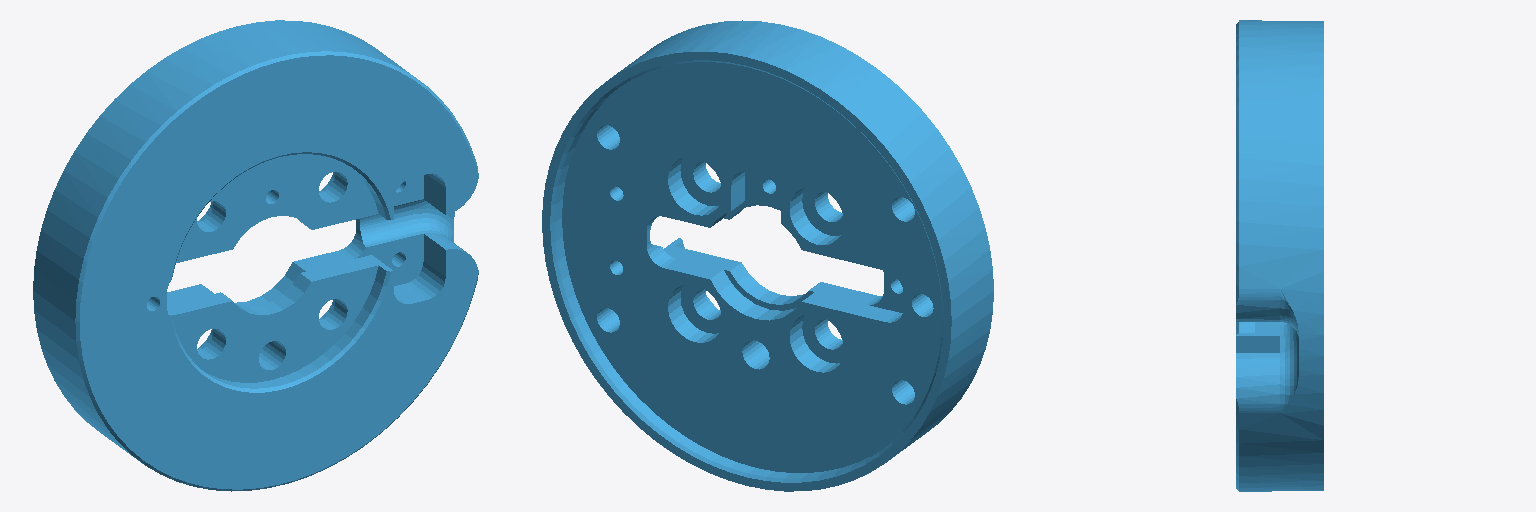
URDF robot description (ur5):
<?xml version="1.0" ?>
<!-- =================================================================================== -->
<!-- |    This document was autogenerated by xacro from ur5_robotiq85_gripper.urdf.xacro | -->
<!-- |    EDITING THIS FILE BY HAND IS NOT RECOMMENDED                                 | -->
<!-- =================================================================================== -->
<robot name="ur5">
  <!-- measured from model -->
  <!--property name="shoulder_height" value="0.089159" /-->
  <!--property name="shoulder_offset" value="0.13585" /-->
  <!-- shoulder_offset - elbow_offset + wrist_1_length = 0.10915 -->
  <!--property name="upper_arm_length" value="0.42500" /-->
  <!--property name="elbow_offset" value="0.1197" /-->
  <!-- CAD measured -->
  <!--property name="forearm_length" value="0.39225" /-->
  <!--property name="wrist_1_length" value="0.093" /-->
  <!-- CAD measured -->
  <!--property name="wrist_2_length" value="0.09465" /-->
  <!-- In CAD this distance is 0.930, but in the spec it is 0.09465 -->
  <!--property name="wrist_3_length" value="0.0823" /-->
  <!-- manually measured -->
  <link name="base_link">
    <visual>
      <geometry>
        <mesh filename="meshes/visual/base.dae"/>
      </geometry>
      <material name="LightGrey">
        <color rgba="0.7 0.7 0.7 1.0"/>
      </material>
    </visual>
    <collision>
      <geometry>
        <mesh filename="meshes/collision/base.stl"/>
      </geometry>
    </collision>
    <inertial>
      <mass value="4.0"/>
      <origin rpy="0 0 0" xyz="0.0 0.0 0.0"/>
      <inertia ixx="0.00443333156" ixy="0.0" ixz="0.0" iyy="0.00443333156" iyz="0.0" izz="0.0072"/>
    </inertial>
  </link>
  <joint name="shoulder_pan_joint" type="revolute">
    <parent link="base_link"/>
    <child link="shoulder_link"/>
    <origin rpy="0.0 0.0 0.0" xyz="0.0 0.0 0.089159"/>
    <axis xyz="0 0 1"/>
    <limit effort="150.0" lower="-3.141592653589793" upper="3.141592653589793" velocity="3.15"/>
    <dynamics damping="0.0" friction="0.0"/>
  </joint>
  <link name="shoulder_link">
    <visual>
      <geometry>
        <mesh filename="meshes/visual/shoulder.dae"/>
      </geometry>
      <material name="LightGrey">
        <color rgba="0.7 0.7 0.7 1.0"/>
      </material>
    </visual>
    <collision>
      <geometry>
        <mesh filename="meshes/collision/shoulder.stl"/>
      </geometry>
    </collision>
    <inertial>
      <mass value="3.7"/>
      <origin rpy="0 0 0" xyz="0.0 0.0 0.0"/>
      <inertia ixx="0.010267495893" ixy="0.0" ixz="0.0" iyy="0.010267495893" iyz="0.0" izz="0.00666"/>
    </inertial>
  </link>
  <joint name="shoulder_lift_joint" type="revolute">
    <parent link="shoulder_link"/>
    <child link="upper_arm_link"/>
    <origin rpy="0.0 1.5707963267948966 0.0" xyz="0.0 0.13585 0.0"/>
    <axis xyz="0 1 0"/>
    <limit effort="150.0" lower="-3.141592653589793" upper="3.141592653589793" velocity="3.15"/>
    <dynamics damping="0.0" friction="0.0"/>
  </joint>
  <link name="upper_arm_link">
    <visual>
      <geometry>
        <mesh filename="meshes/visual/upperarm.dae"/>
      </geometry>
      <material name="LightGrey">
        <color rgba="0.7 0.7 0.7 1.0"/>
      </material>
    </visual>
    <collision>
      <geometry>
        <mesh filename="meshes/collision/upperarm.stl"/>
      </geometry>
    </collision>
    <inertial>
      <mass value="8.393"/>
      <origin rpy="0 0 0" xyz="0.0 0.0 0.28"/>
      <inertia ixx="0.22689067591036005" ixy="0.0" ixz="0.0" iyy="0.22689067591036005" iyz="0.0" izz="0.0151074"/>
    </inertial>
  </link>
  <joint name="elbow_joint" type="revolute">
    <parent link="upper_arm_link"/>
    <child link="forearm_link"/>
    <origin rpy="0.0 0.0 0.0" xyz="0.0 -0.1197 0.425"/>
    <axis xyz="0 1 0"/>
    <limit effort="150.0" lower="-3.141592653589793" upper="3.141592653589793" velocity="3.15"/>
    <dynamics damping="0.0" friction="0.0"/>
  </joint>
  <link name="forearm_link">
    <visual>
      <geometry>
        <mesh filename="meshes/visual/forearm.dae"/>
      </geometry>
      <material name="LightGrey">
        <color rgba="0.7 0.7 0.7 1.0"/>
      </material>
    </visual>
    <collision>
      <geometry>
        <mesh filename="meshes/collision/forearm.stl"/>
      </geometry>
    </collision>
    <inertial>
      <mass value="2.275"/>
      <origin rpy="0 0 0" xyz="0.0 0.0 0.25"/>
      <inertia ixx="0.04944331355599999" ixy="0.0" ixz="0.0" iyy="0.04944331355599999" iyz="0.0" izz="0.004095"/>
    </inertial>
  </link>
  <joint name="wrist_1_joint" type="revolute">
    <parent link="forearm_link"/>
    <child link="wrist_1_link"/>
    <origin rpy="0.0 1.5707963267948966 0.0" xyz="0.0 0.0 0.39225"/>
    <axis xyz="0 1 0"/>
    <limit effort="28.0" lower="-3.141592653589793" upper="3.141592653589793" velocity="3.2"/>
    <dynamics damping="0.0" friction="0.0"/>
  </joint>
  <link name="wrist_1_link">
    <visual>
      <geometry>
        <mesh filename="meshes/visual/wrist1.dae"/>
      </geometry>
      <material name="LightGrey">
        <color rgba="0.7 0.7 0.7 1.0"/>
      </material>
    </visual>
    <collision>
      <geometry>
        <mesh filename="meshes/collision/wrist1.stl"/>
      </geometry>
    </collision>
    <inertial>
      <mass value="1.219"/>
      <origin rpy="0 0 0" xyz="0.0 0.0 0.0"/>
      <inertia ixx="0.11117275553087999" ixy="0.0" ixz="0.0" iyy="0.11117275553087999" iyz="0.0" izz="0.21942"/>
    </inertial>
  </link>
  <joint name="wrist_2_joint" type="revolute">
    <parent link="wrist_1_link"/>
    <child link="wrist_2_link"/>
    <origin rpy="0.0 0.0 0.0" xyz="0.0 0.093 0.0"/>
    <axis xyz="0 0 1"/>
    <limit effort="28.0" lower="-3.141592653589793" upper="3.141592653589793" velocity="3.2"/>
    <dynamics damping="0.0" friction="0.0"/>
  </joint>
  <link name="wrist_2_link">
    <visual>
      <geometry>
        <mesh filename="meshes/visual/wrist2.dae"/>
      </geometry>
      <material name="LightGrey">
        <color rgba="0.7 0.7 0.7 1.0"/>
      </material>
    </visual>
    <collision>
      <geometry>
        <mesh filename="meshes/collision/wrist2.stl"/>
      </geometry>
    </collision>
    <inertial>
      <mass value="1.219"/>
      <origin rpy="0 0 0" xyz="0.0 0.0 0.0"/>
      <inertia ixx="0.11117275553087999" ixy="0.0" ixz="0.0" iyy="0.11117275553087999" iyz="0.0" izz="0.21942"/>
    </inertial>
  </link>
  <joint name="wrist_3_joint" type="revolute">
    <parent link="wrist_2_link"/>
    <child link="wrist_3_link"/>
    <origin rpy="0.0 0.0 0.0" xyz="0.0 0.0 0.09465"/>
    <axis xyz="0 1 0"/>
    <limit effort="28.0" lower="-3.141592653589793" upper="3.141592653589793" velocity="3.2"/>
    <dynamics damping="0.0" friction="0.0"/>
  </joint>
  <link name="wrist_3_link">
    <visual>
      <geometry>
        <mesh filename="meshes/visual/wrist3.dae"/>
      </geometry>
      <material name="LightGrey">
        <color rgba="0.7 0.7 0.7 1.0"/>
      </material>
    </visual>
    <collision>
      <geometry>
        <mesh filename="meshes/collision/wrist3.stl"/>
      </geometry>
    </collision>
    <inertial>
      <mass value="0.1879"/>
      <origin rpy="0 0 0" xyz="0.0 0.0 0.0"/>
      <inertia ixx="0.017136473145408" ixy="0.0" ixz="0.0" iyy="0.017136473145408" iyz="0.0" izz="0.033822"/>
    </inertial>
  </link>
  <joint name="ee_fixed_joint" type="fixed">
    <parent link="wrist_3_link"/>
    <child link="ee_link"/>
    <origin rpy="0.0 0.0 1.5707963267948966" xyz="0.0 0.0823 0.0"/>
  </joint>
  <link name="ee_link">
    <collision>
      <geometry>
        <box size="0.01 0.01 0.01"/>
      </geometry>
      <origin rpy="0 0 0" xyz="-0.01 0 0"/>
    </collision>
  </link>
  <transmission name="shoulder_pan_trans">
    <type>transmission_interface/SimpleTransmission</type>
    <joint name="shoulder_pan_joint">
      <hardwareInterface>PositionJointInterface</hardwareInterface>
    </joint>
    <actuator name="shoulder_pan_motor">
      <mechanicalReduction>1</mechanicalReduction>
    </actuator>
  </transmission>
  <transmission name="shoulder_lift_trans">
    <type>transmission_interface/SimpleTransmission</type>
    <joint name="shoulder_lift_joint">
      <hardwareInterface>PositionJointInterface</hardwareInterface>
    </joint>
    <actuator name="shoulder_lift_motor">
      <mechanicalReduction>1</mechanicalReduction>
    </actuator>
  </transmission>
  <transmission name="elbow_trans">
    <type>transmission_interface/SimpleTransmission</type>
    <joint name="elbow_joint">
      <hardwareInterface>PositionJointInterface</hardwareInterface>
    </joint>
    <actuator name="elbow_motor">
      <mechanicalReduction>1</mechanicalReduction>
    </actuator>
  </transmission>
  <transmission name="wrist_1_trans">
    <type>transmission_interface/SimpleTransmission</type>
    <joint name="wrist_1_joint">
      <hardwareInterface>PositionJointInterface</hardwareInterface>
    </joint>
    <actuator name="wrist_1_motor">
      <mechanicalReduction>1</mechanicalReduction>
    </actuator>
  </transmission>
  <transmission name="wrist_2_trans">
    <type>transmission_interface/SimpleTransmission</type>
    <joint name="wrist_2_joint">
      <hardwareInterface>PositionJointInterface</hardwareInterface>
    </joint>
    <actuator name="wrist_2_motor">
      <mechanicalReduction>1</mechanicalReduction>
    </actuator>
  </transmission>
  <transmission name="wrist_3_trans">
    <type>transmission_interface/SimpleTransmission</type>
    <joint name="wrist_3_joint">
      <hardwareInterface>PositionJointInterface</hardwareInterface>
    </joint>
    <actuator name="wrist_3_motor">
      <mechanicalReduction>1</mechanicalReduction>
    </actuator>
  </transmission>
  <!-- nothing to do here at the moment -->
  <!-- Frame coincident with all-zeros TCP on UR controller -->
  <link name="tool0"/>
  <joint name="wrist_3_link-tool0_fixed_joint" type="fixed">
    <origin rpy="-1.5707963267948966 0 0" xyz="0 0.0823 0"/>
    <parent link="wrist_3_link"/>
    <child link="tool0"/>
  </joint>
  <!-- Robotiq Coupler -->
  <!--  + Height added by the coupler: 8mm -->
  <!--  + Reference frame: at the middle (4mm) -->
  <link name="robotiq_coupler">
    <visual>
      <geometry>
        <mesh filename="robotiq/robotiq_85_coupler.stl"/>
      </geometry>
      <material name="flat_black"/>
    </visual>
    <collision>
      <geometry>
        <mesh filename="robotiq/robotiq_85_coupler.stl"/>
      </geometry>
    </collision>
    <inertial>
      <origin rpy="0 0 0" xyz="2.073e-05   1.45286e-03  -1.1049e-03"/>
      <mass value="0.168"/>
      <inertia ixx="6.69695624e-05" ixy="5.21511788e-09" ixz="-2.74383009e-08" iyy="7.85088161e-05" iyz="5.41105193e-07" izz="1.41819717e-04"/>
    </inertial>
  </link>
  <joint name="robotiq_coupler_joint" type="fixed">
    <origin rpy="0 0 -1.5707963267948966" xyz="0 0 0.004"/>
    <parent link="tool0"/>
    <child link="robotiq_coupler"/>
  </joint>
  <gazebo reference="robotiq_coupler">
    <mu1>0.9</mu1>
    <mu2>0.9</mu2>
    <material>Gazebo/FlatBlack</material>
  </gazebo>
  <!-- Equivalent to the OpenRAVE manipulator denso_robotiq_85_gripper -->
  <!-- <link name="denso_robotiq_85_gripper" /> -->
  <!-- <joint name="manipulator_dummy_joint" type="fixed"> -->
  <!--   <origin xyz="0 0 0.1441" rpy="0 0 0" /> -->
  <!--   <parent link="robotiq_coupler"/> -->
  <!--   <child link="denso_robotiq_85_gripper"/> -->
  <!-- </joint> -->
  <joint name="robotiq_85_base_joint" type="fixed">
    <parent link="robotiq_coupler"/>
    <child link="robotiq_85_base_link"/>
    <origin rpy="0 -1.5707963267948966 3.141592653589793" xyz="0 0 0.004"/>
  </joint>
  <link name="robotiq_85_base_link">
    <visual>
      <geometry>
        <mesh filename="robotiq/visual/robotiq_85_base_link.dae"/>
      </geometry>
    </visual>
    <collision>
      <geometry>
        <mesh filename="robotiq/collision/robotiq_85_base_link.stl"/>
      </geometry>
    </collision>
    <inertial>
      <mass value="0.636951"/>
      <origin xyz="0.0 0.0 0.0"/>
      <inertia ixx="0.000380" ixy="0.000000" ixz="0.000000" iyx="0.000000" iyy="0.001110" iyz="0.000000" izx="0.000000" izy="0.000000" izz="0.001171"/>
    </inertial>
  </link>
  <!-- <joint name="robotiq_85_left_knuckle_joint" type="revolute"> -->
  <joint name="robotiq_85_left_knuckle_joint" type="fixed">
    <parent link="robotiq_85_base_link"/>
    <child link="robotiq_85_left_knuckle_link"/>
    <axis xyz="0 0 1"/>
    <origin rpy="3.141592653589793 0.0 0.0" xyz="0.05490451627 0.03060114443 0.0"/>
    <limit effort="1000" lower="0.0" upper="0.80285" velocity="0.5"/>
  </joint>
  <!-- <joint name="robotiq_85_right_knuckle_joint" type="continuous"> -->
  <joint name="robotiq_85_right_knuckle_joint" type="fixed">
    <parent link="robotiq_85_base_link"/>
    <child link="robotiq_85_right_knuckle_link"/>
    <axis xyz="0 0 1"/>
    <origin rpy="0.0 0.0 0.0" xyz="0.05490451627 -0.03060114443 0.0"/>
    <limit effort="1000" lower="-3.14" upper="3.14" velocity="100.0"/>
    <mimic joint="robotiq_85_left_knuckle_joint"/>
  </joint>
  <link name="robotiq_85_left_knuckle_link">
    <visual>
      <geometry>
        <mesh filename="robotiq/visual/robotiq_85_knuckle_link.dae"/>
      </geometry>
    </visual>
    <collision>
      <geometry>
        <mesh filename="robotiq/collision/robotiq_85_knuckle_link.stl"/>
      </geometry>
    </collision>
    <inertial>
      <mass value="0.018491"/>
      <origin xyz="0.0 0.0 0.0"/>
      <inertia ixx="0.000009" ixy="-0.000001" ixz="0.000000" iyx="-0.000001" iyy="0.000001" iyz="0.000000" izx="0.000000" izy="0.000000" izz="0.000010"/>
    </inertial>
  </link>
  <link name="robotiq_85_right_knuckle_link">
    <visual>
      <geometry>
        <mesh filename="robotiq/visual/robotiq_85_knuckle_link.dae"/>
      </geometry>
    </visual>
    <collision>
      <geometry>
        <mesh filename="robotiq/collision/robotiq_85_knuckle_link.stl"/>
      </geometry>
    </collision>
    <inertial>
      <mass value="0.018491"/>
      <origin xyz="0.0 0.0 0.0"/>
      <inertia ixx="0.000009" ixy="-0.000001" ixz="0.000000" iyx="-0.000001" iyy="0.000001" iyz="0.000000" izx="0.000000" izy="0.000000" izz="0.000010"/>
    </inertial>
  </link>
  <joint name="robotiq_85_left_finger_joint" type="fixed">
    <parent link="robotiq_85_left_knuckle_link"/>
    <child link="robotiq_85_left_finger_link"/>
    <origin rpy="0 0 0" xyz="-0.00408552455 -0.03148604435 0.0"/>
  </joint>
  <joint name="robotiq_85_right_finger_joint" type="fixed">
    <parent link="robotiq_85_right_knuckle_link"/>
    <child link="robotiq_85_right_finger_link"/>
    <origin rpy="0 0 0" xyz="-0.00408552455 -0.03148604435 0.0"/>
  </joint>
  <link name="robotiq_85_left_finger_link">
    <visual>
      <geometry>
        <mesh filename="robotiq/visual/robotiq_85_finger_link.dae"/>
      </geometry>
    </visual>
    <collision>
      <geometry>
        <mesh filename="robotiq/collision/robotiq_85_finger_link.stl"/>
      </geometry>
    </collision>
    <inertial>
      <mass value="0.027309"/>
      <origin xyz="0.0 0.0 0.0"/>
      <inertia ixx="0.000003" ixy="-0.000002" ixz="0.000000" iyx="-0.000002" iyy="0.000021" iyz="0.000000" izx="0.000000" izy="0.000000" izz="0.000020"/>
    </inertial>
  </link>
  <link name="robotiq_85_right_finger_link">
    <visual>
      <geometry>
        <mesh filename="robotiq/visual/robotiq_85_finger_link.dae"/>
      </geometry>
    </visual>
    <collision>
      <geometry>
        <mesh filename="robotiq/collision/robotiq_85_finger_link.stl"/>
      </geometry>
    </collision>
    <inertial>
      <mass value="0.027309"/>
      <origin xyz="0.0 0.0 0.0"/>
      <inertia ixx="0.000003" ixy="-0.000002" ixz="0.000000" iyx="-0.000002" iyy="0.000021" iyz="0.000000" izx="0.000000" izy="0.000000" izz="0.000020"/>
    </inertial>
  </link>
  <!-- <joint name="robotiq_85_left_inner_knuckle_joint" type="continuous"> -->
  <joint name="robotiq_85_left_inner_knuckle_joint" type="fixed">
    <parent link="robotiq_85_base_link"/>
    <child link="robotiq_85_left_inner_knuckle_link"/>
    <axis xyz="0 0 1"/>
    <origin rpy="3.141592653589793 0.0 0.0" xyz="0.06142 0.0127 0"/>
    <limit effort="0.1" lower="-3.14" upper="3.14" velocity="100.0"/>
    <mimic joint="robotiq_85_left_knuckle_joint" offset="0"/>
  </joint>
  <!-- <joint name="robotiq_85_right_inner_knuckle_joint" type="continuous"> -->
  <joint name="robotiq_85_right_inner_knuckle_joint" type="fixed">
    <parent link="robotiq_85_base_link"/>
    <child link="robotiq_85_right_inner_knuckle_link"/>
    <axis xyz="0 0 1"/>
    <origin rpy="0 0 0" xyz="0.06142 -0.0127 0"/>
    <limit effort="0.1" lower="-3.14" upper="3.14" velocity="100.0"/>
    <mimic joint="robotiq_85_left_knuckle_joint" offset="0"/>
  </joint>
  <link name="robotiq_85_left_inner_knuckle_link">
    <visual>
      <geometry>
        <mesh filename="robotiq/visual/robotiq_85_inner_knuckle_link.dae"/>
      </geometry>
    </visual>
    <collision>
      <geometry>
        <mesh filename="robotiq/collision/robotiq_85_inner_knuckle_link.stl"/>
      </geometry>
    </collision>
    <inertial>
      <mass value="0.029951"/>
      <origin xyz="0.0 0.0 0.0"/>
      <inertia ixx="0.000039" ixy="0.000000" ixz="0.000000" iyx="0.000000" iyy="0.000005" iyz="0.000000" izx="0.000000" izy="0.000000" izz="0.000035"/>
    </inertial>
  </link>
  <link name="robotiq_85_right_inner_knuckle_link">
    <visual>
      <geometry>
        <mesh filename="robotiq/visual/robotiq_85_inner_knuckle_link.dae"/>
      </geometry>
    </visual>
    <collision>
      <geometry>
        <mesh filename="robotiq/collision/robotiq_85_inner_knuckle_link.stl"/>
      </geometry>
    </collision>
    <inertial>
      <mass value="0.029951"/>
      <origin xyz="0.0 0.0 0.0"/>
      <inertia ixx="0.000039" ixy="0.000000" ixz="0.000000" iyx="0.000000" iyy="0.000005" iyz="0.000000" izx="0.000000" izy="0.000000" izz="0.000035"/>
    </inertial>
  </link>
  <!-- <joint name="robotiq_85_left_finger_tip_joint" type="continuous"> -->
  <joint name="robotiq_85_left_finger_tip_joint" type="fixed">
    <parent link="robotiq_85_left_inner_knuckle_link"/>
    <child link="robotiq_85_left_finger_tip_link"/>
    <axis xyz="0 0 1"/>
    <origin rpy="0.0 0.0 0.0" xyz="0.04303959807 -0.03759940821 0.0"/>
    <limit effort="0.1" lower="-3.14" upper="3.14" velocity="100.0"/>
    <mimic joint="robotiq_85_left_knuckle_joint" multiplier="-1"/>
  </joint>
  <!-- <joint name="robotiq_85_right_finger_tip_joint" type="continuous"> -->
  <joint name="robotiq_85_right_finger_tip_joint" type="fixed">
    <parent link="robotiq_85_right_inner_knuckle_link"/>
    <child link="robotiq_85_right_finger_tip_link"/>
    <axis xyz="0 0 1"/>
    <origin rpy="0.0 0.0 0.0" xyz="0.04303959807 -0.03759940821  0.0"/>
    <limit effort="0.1" lower="-3.14" upper="3.14" velocity="100.0"/>
    <mimic joint="robotiq_85_left_knuckle_joint" multiplier="-1"/>
  </joint>
  <link name="robotiq_85_left_finger_tip_link">
    <visual>
      <geometry>
        <mesh filename="robotiq/visual/robotiq_85_finger_tip_link.dae"/>
      </geometry>
    </visual>
    <collision>
      <geometry>
        <mesh filename="robotiq/collision/robotiq_85_finger_tip_link.stl"/>
      </geometry>
    </collision>
    <inertial>
      <mass value="0.019555"/>
      <origin xyz="0.0 0.0 0.0"/>
      <inertia ixx="0.000002" ixy="0.000000" ixz="0.000000" iyx="0.000000" iyy="0.000005" iyz="0.000000" izx="0.000000" izy="0.000000" izz="0.000006"/>
    </inertial>
  </link>
  <link name="robotiq_85_right_finger_tip_link">
    <visual>
      <geometry>
        <mesh filename="robotiq/visual/robotiq_85_finger_tip_link.dae"/>
      </geometry>
    </visual>
    <collision>
      <geometry>
        <mesh filename="robotiq/collision/robotiq_85_finger_tip_link.stl"/>
      </geometry>
    </collision>
    <inertial>
      <mass value="0.019555"/>
      <origin xyz="0.0 0.0 0.0"/>
      <inertia ixx="0.000002" ixy="0.000000" ixz="0.000000" iyx="0.000000" iyy="0.000005" iyz="0.000000" izx="0.000000" izy="0.000000" izz="0.000006"/>
    </inertial>
  </link>

  <link name="basex"/>
  <link name="basey"/>
  <link name="basez"/>
  <link name="base">
    <visual>
      <origin xyz="0 0 -0.26"/>
      <geometry>
        <mesh filename="meshes/visual/base_link.dae" scale="0.8 0.8 0.8"/>
      </geometry>
    </visual>
    <collision>
      <origin rpy="0 0 0" xyz="0 0 -0.1125" />
      <geometry>
        <cylinder length="0.25" radius="0.21"/>
      </geometry>
    </collision>
  </link>
  <joint name="base_slider_x" type="prismatic">
    <origin rpy="0 0 0" xyz="0 0 -0.01"/>
    <parent link="basex"/>
    <child link="basey"/>
    <axis xyz="1 0 0"/>
    <dynamics damping="10.0"/>
    <limit effort="100" lower="-2" upper="2" velocity="1.0"/>
  </joint>
  <joint name="base_slider_y" type="prismatic">
    <origin rpy="0 0 0" xyz="0 0 0"/>
    <parent link="basey"/>
    <child link="basez"/>
    <axis xyz="0 1 0"/>
    <dynamics damping="10.0"/>
    <limit effort="50" lower="-2" upper="2" velocity="0.3"/>
  </joint>
  <joint name="base_rotate_z" type="revolute">
    <origin rpy="0 0 0" xyz="0 0 0"/>
    <parent link="basez"/>
    <child link="base"/>
    <axis xyz="0 0 1"/>
    <dynamics damping="10.0"/>
    <limit effort="87" lower="-5.0" upper="5.0" velocity="2.1750"/>
  </joint>
  <joint name="base_robot" type="fixed">
    <origin rpy="0 0 0" xyz="0 0 0.0"/>
    <parent link="base"/>
    <child link="base_link"/>
    <axis xyz="0 0 0"/>
  </joint>
</robot>

--- Facts derived from the render (not from the file) ---
3 views of the same robot in one strip: view 1: azimuth 30°, elevation 25°; view 2: azimuth 150°, elevation 25°; view 3: azimuth 270°, elevation 25° (orthographic).
Model ur5 with 23 links and 22 joints (7 revolute, 2 prismatic, 13 fixed), rooted at basex, posed every joint at zero.
Visible links, largest first — view 1: robotiq_coupler; view 2: robotiq_coupler; view 3: robotiq_coupler.
Link boxes in pixels (x1=…): robotiq_coupler: x1=33, y1=20, x2=478, y2=491; robotiq_coupler: x1=542, y1=20, x2=993, y2=491; robotiq_coupler: x1=1236, y1=20, x2=1323, y2=491.
Bounding box of the posed robot: 0.075 × 0.0139 × 0.075 m (x, y, z).
Meshes: 14 distinct files referenced, 1 mesh visuals loaded (1 binary STL); not drawn: 17 (reference not matched to a file when rendering).